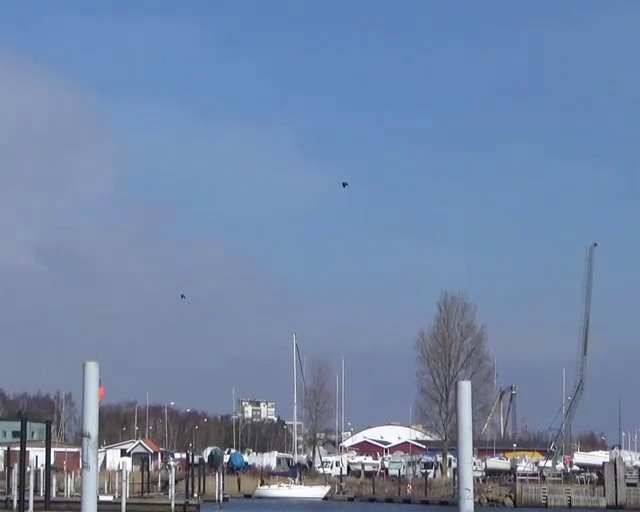BIRD: (177, 291, 188, 302)
